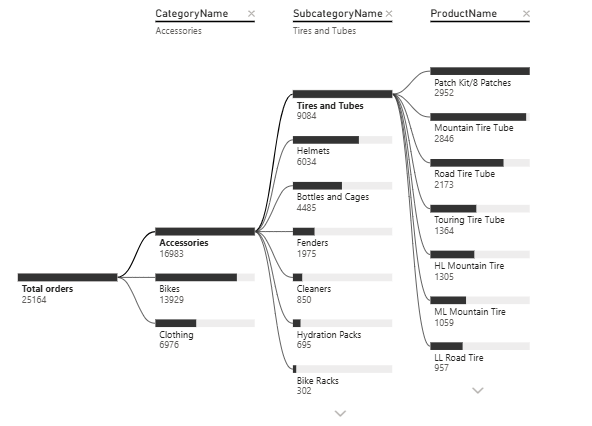

The dashboard page shown, as its layout file describes it:
{"tool":"powerbi","page":{"name":"Decomposition Tree","canvas":[1280,720],"ordinal":5},"visuals":[{"type":"decompositionTreeVisual","fields":{"ExplainBy":["Product Categories Lookup.CategoryName","Product Subcategories Lookup.SubcategoryName","Product Lookup.ProductName"],"Analyze":["Measure Table.Total orders"]},"box":[10.1,0,1232.6,720],"z":0}]}

Visuals, with their boxes on the page's 1280x720 design canvas (x1, y1, x2, y2). These are canvas units, not pixel positions in the 592x426 screenshot, which may show the page scaled, cropped or inside an application window:
decompositionTreeVisual - Product Categories Lookup.CategoryName x Product Subcategories Lookup.SubcategoryName: (left=10, top=0, right=1243, bottom=720)
